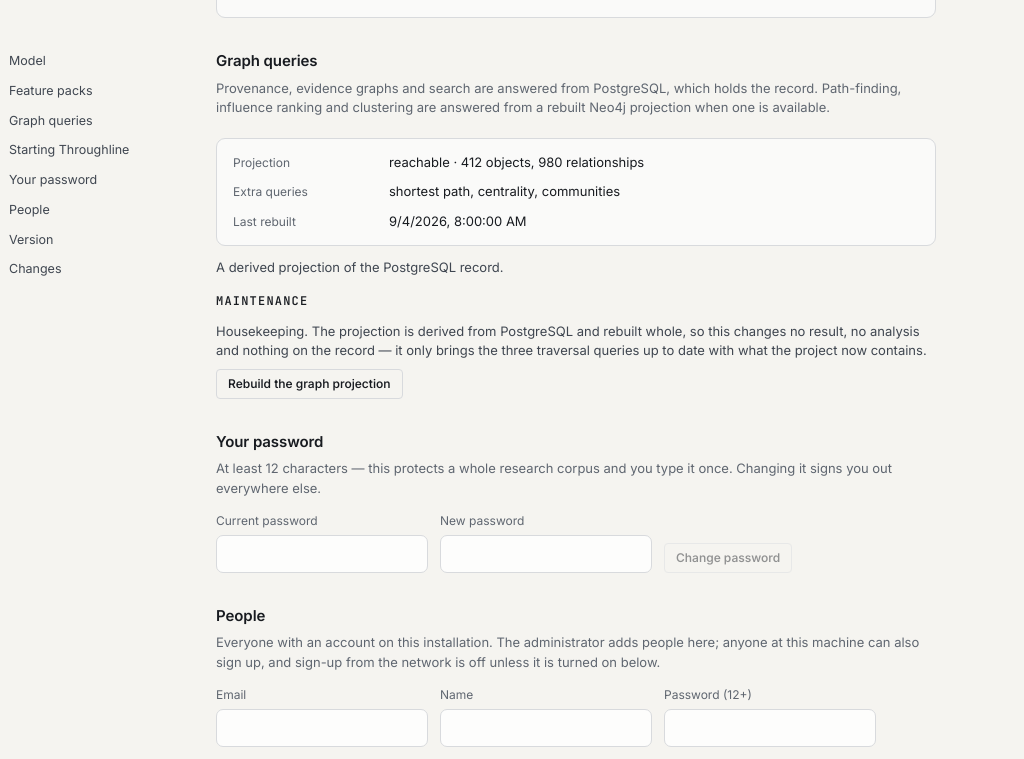
it: the maintenance action beside the projection readout › says what the server said when the rebuild fails
(page scrolled)
Click the button "Rebuild the graph projection": coordinates (309, 384) [216,369,402,399]
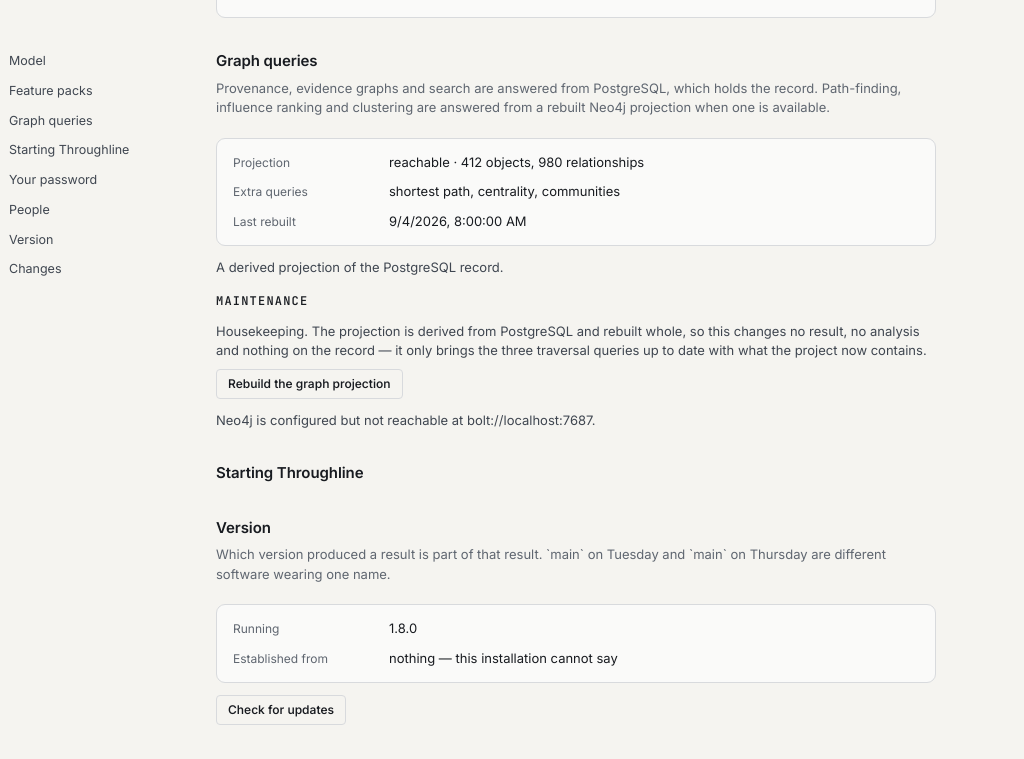
Expected: the message shows "not reachable", [216,412,596,428]
